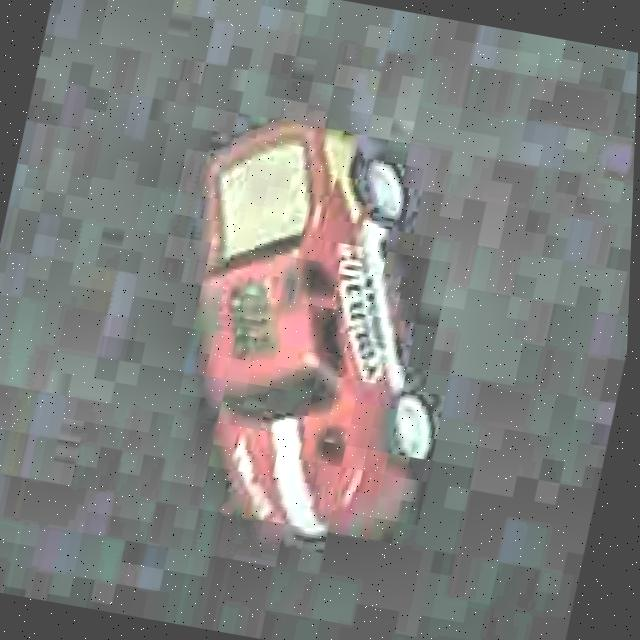car: (125, 99, 507, 556)
